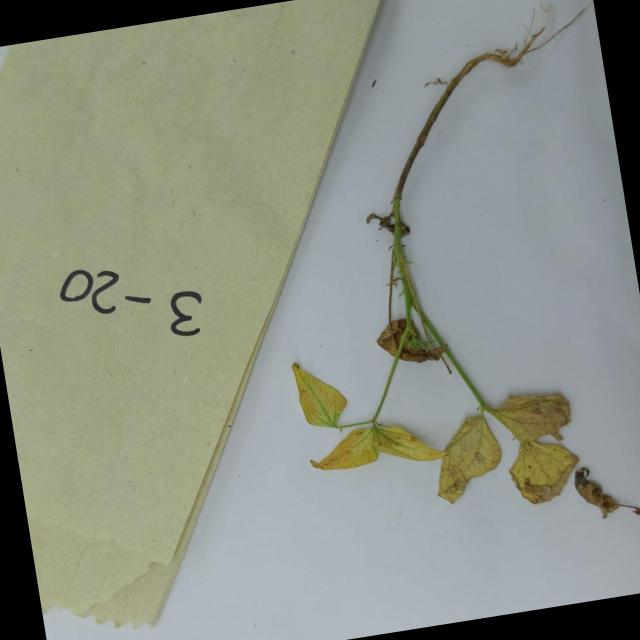Root: (478, 0, 590, 72)
Stem: (372, 54, 482, 198), (374, 192, 428, 315), (448, 340, 495, 417), (419, 286, 465, 362), (364, 359, 400, 419)
rooten_leaf: (425, 417, 514, 510), (279, 350, 357, 439), (499, 435, 590, 510), (492, 383, 586, 447), (569, 452, 640, 534), (366, 410, 447, 477), (296, 421, 394, 468), (374, 313, 451, 370)
